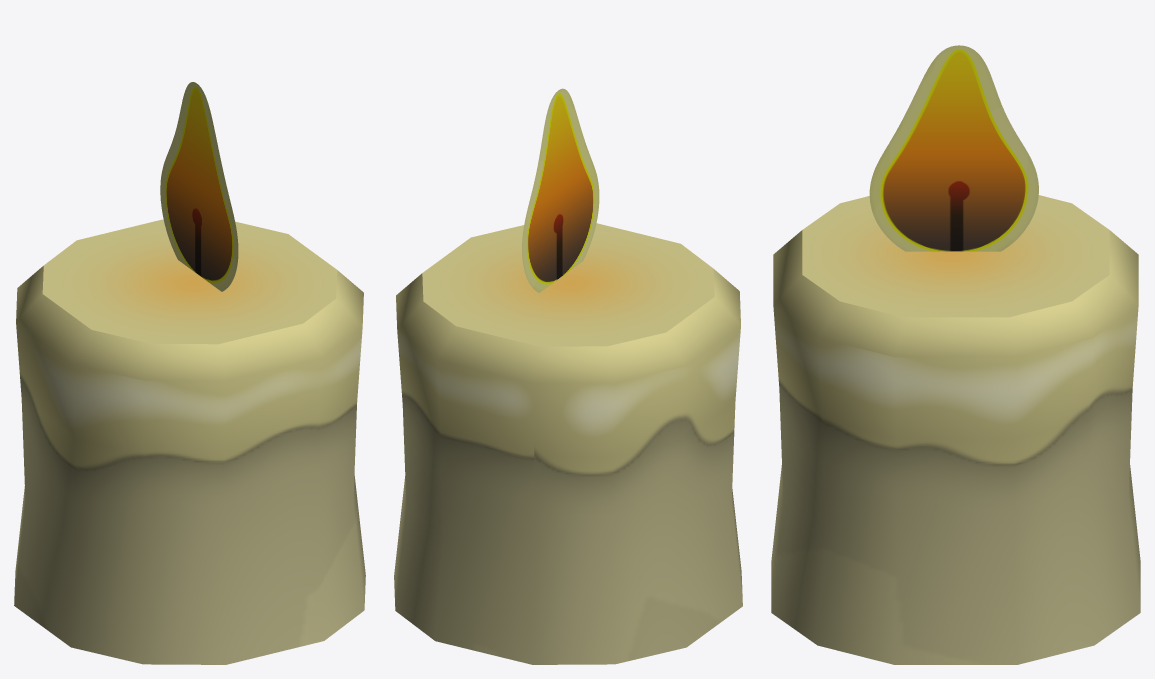
File: candleOBJ.fbx
3 views of the same model, side by side, from view 1: azimuth 30°, elevation 25°; view 2: azimuth 150°, elevation 25°; view 3: azimuth 270°, elevation 25° (orthographic). The views are drawn at different scales.
Parts seen in each view (by area): view 1: candleGEO; view 2: candleGEO; view 3: candleGEO.
Boxes of the visible parts, x1,y1,x2,y2 form: candleGEO: (14,82,365,664); candleGEO: (394,88,742,664); candleGEO: (771,45,1140,664).
Size of the model in its own units: 37.67 by 65.03 by 37.67.
